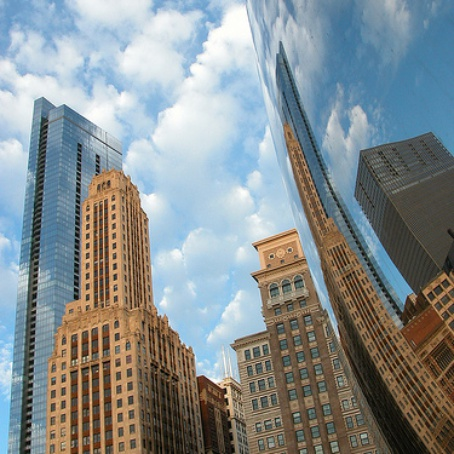building: (1, 107, 132, 449), (61, 181, 190, 454), (229, 240, 381, 454)
sky: (1, 1, 313, 292)
